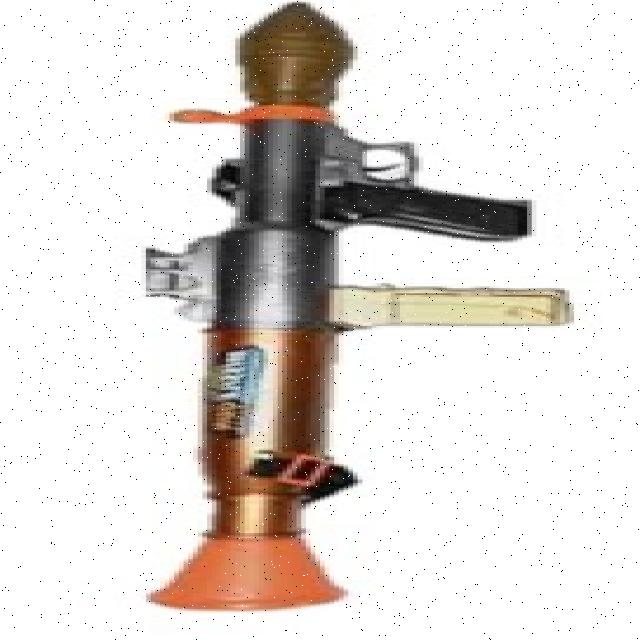bazooka: (142, 1, 579, 613)
